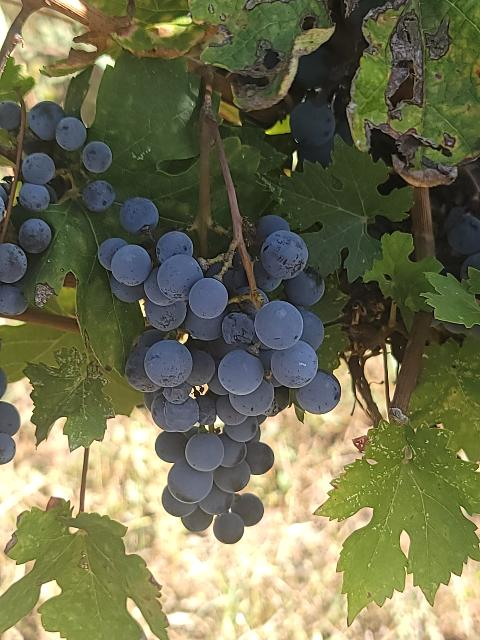grapes: (99, 216, 341, 542)
